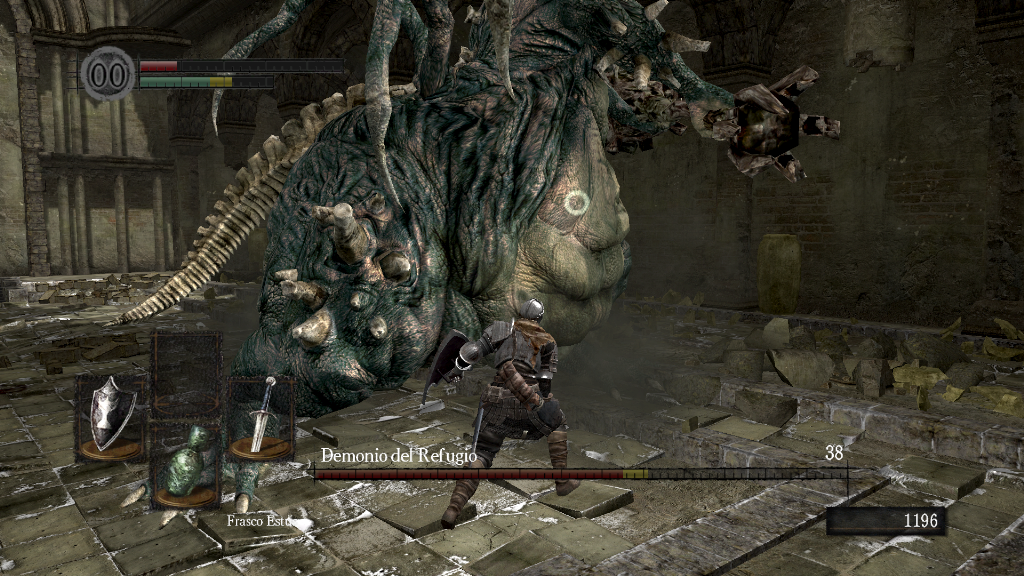asylumDemon: (96, 1, 844, 519)
bossHP: (314, 469, 847, 479)
health: (138, 58, 343, 71)
humanity: (80, 45, 136, 102)
player: (422, 297, 584, 530)
souls: (825, 506, 945, 536)
stamina: (138, 74, 274, 88)
